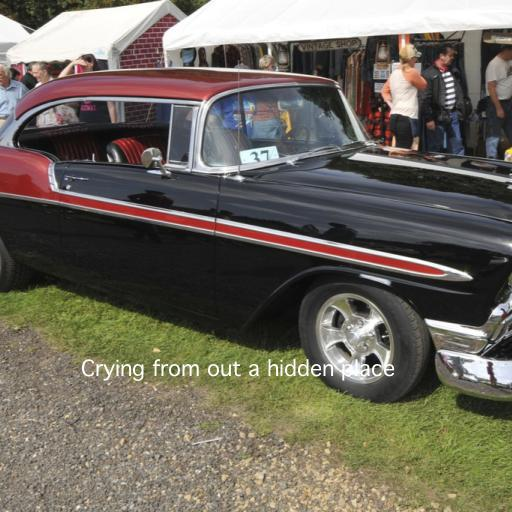Geneva: (81, 359, 395, 381)
